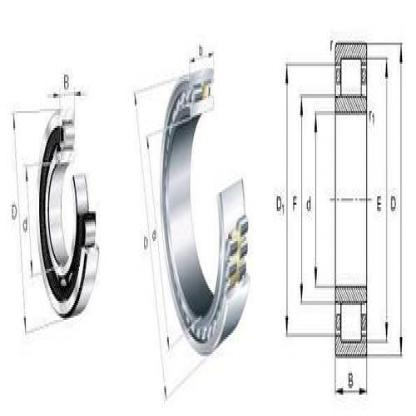FOD: (33, 96, 99, 324)
